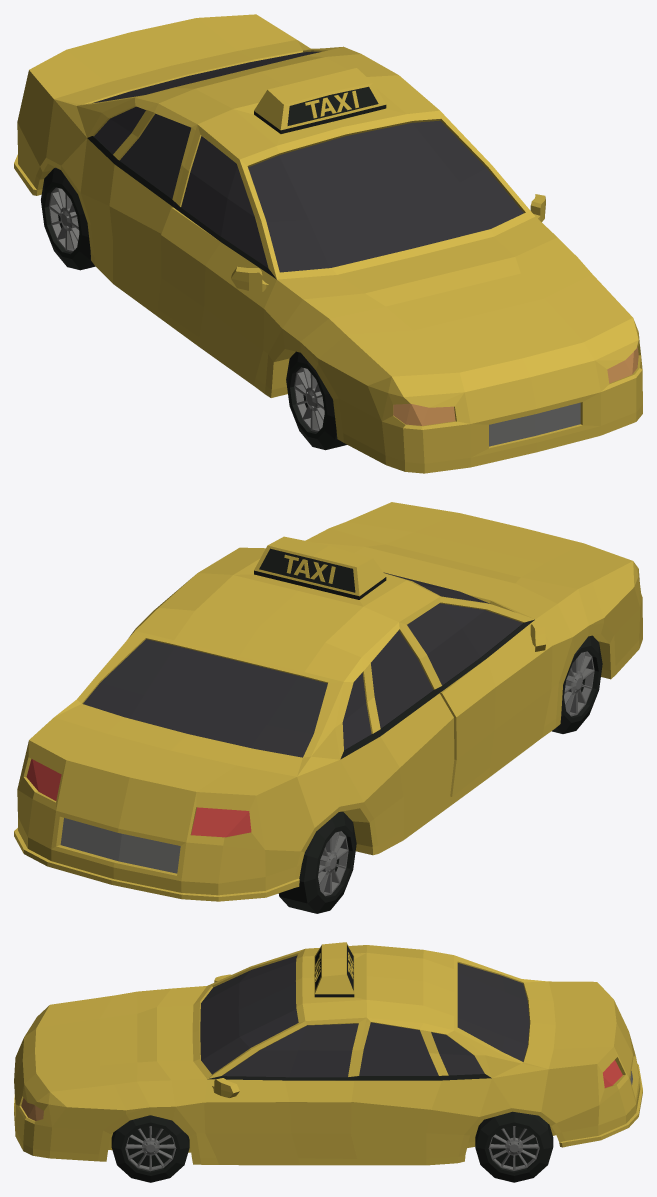
File: quaternius-realistic-car-taxi.glb
3 renders of one model, top to bottom at view 1: azimuth 30°, elevation 25°; view 2: azimuth 150°, elevation 25°; view 3: azimuth 270°, elevation 25°, orthographic. The views are drawn at different scales.
Visible parts, largest first — view 1: Taxi; view 2: Taxi; view 3: Taxi.
Boxes of the visible parts, x1,y1,x2,y2 form: Taxi: (14, 14, 642, 473); Taxi: (14, 502, 642, 913); Taxi: (14, 942, 642, 1182).
Bounding box in the file's own units: 1.81 × 1.31 × 4.22.
Materials: 1 (1 with a texture image).
